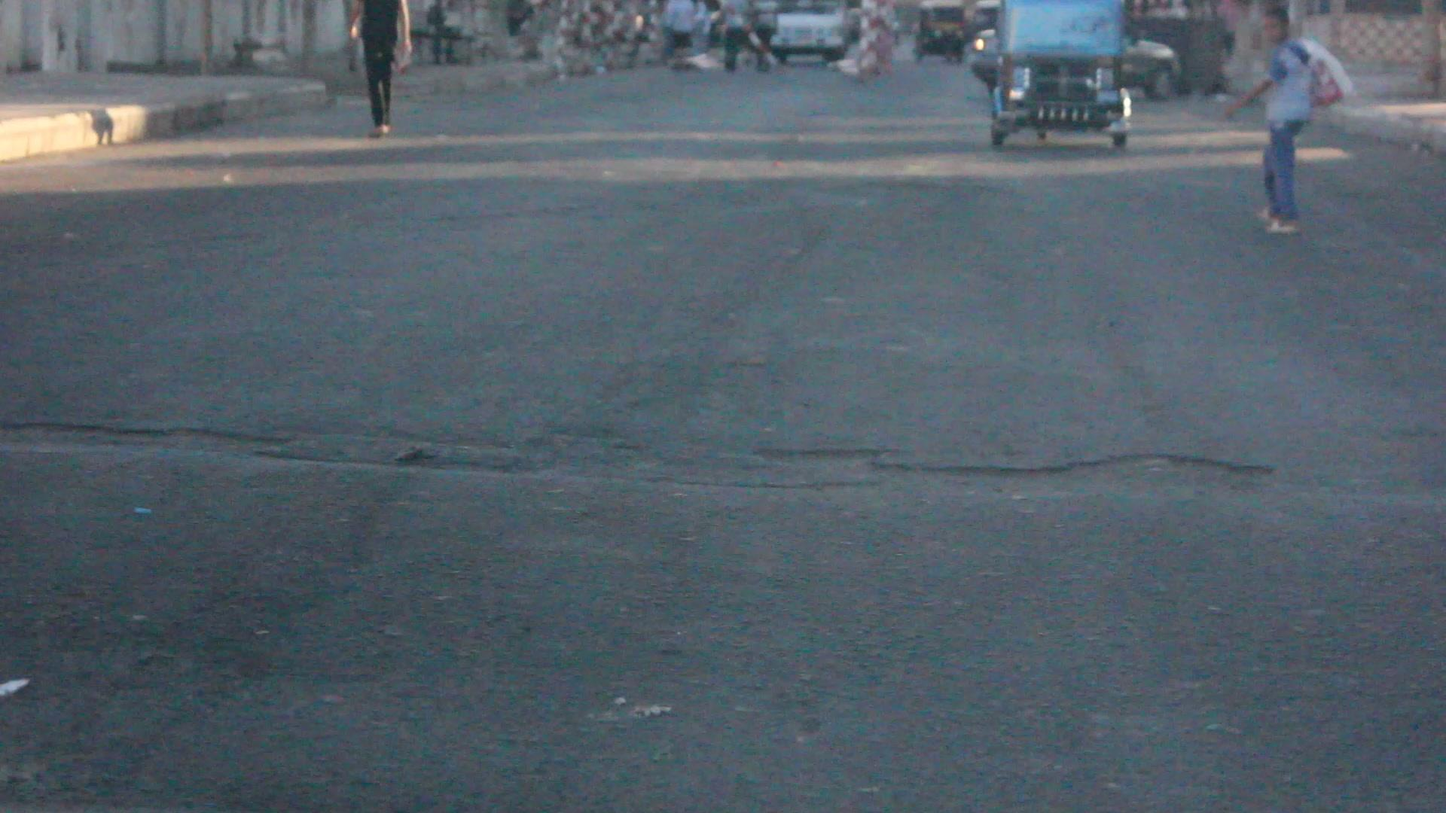Pothole: (17, 412, 1446, 559)
